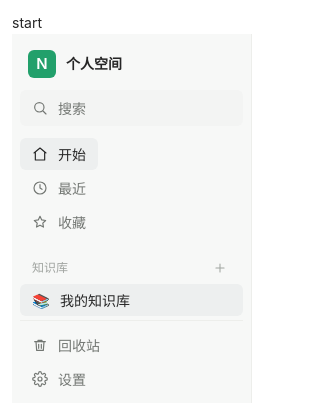
Test: GlobalSidebar › 点击知识库切换到知识库首页
Click the button with aria-label "知识库「我的知识库」".
click(132, 300)  # box [20, 284, 243, 316]
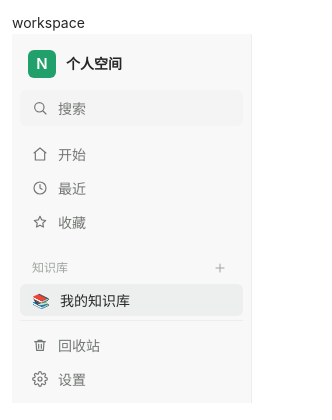
Expected: the text with test id "view" reads "workspace", [12, 14, 85, 31]
